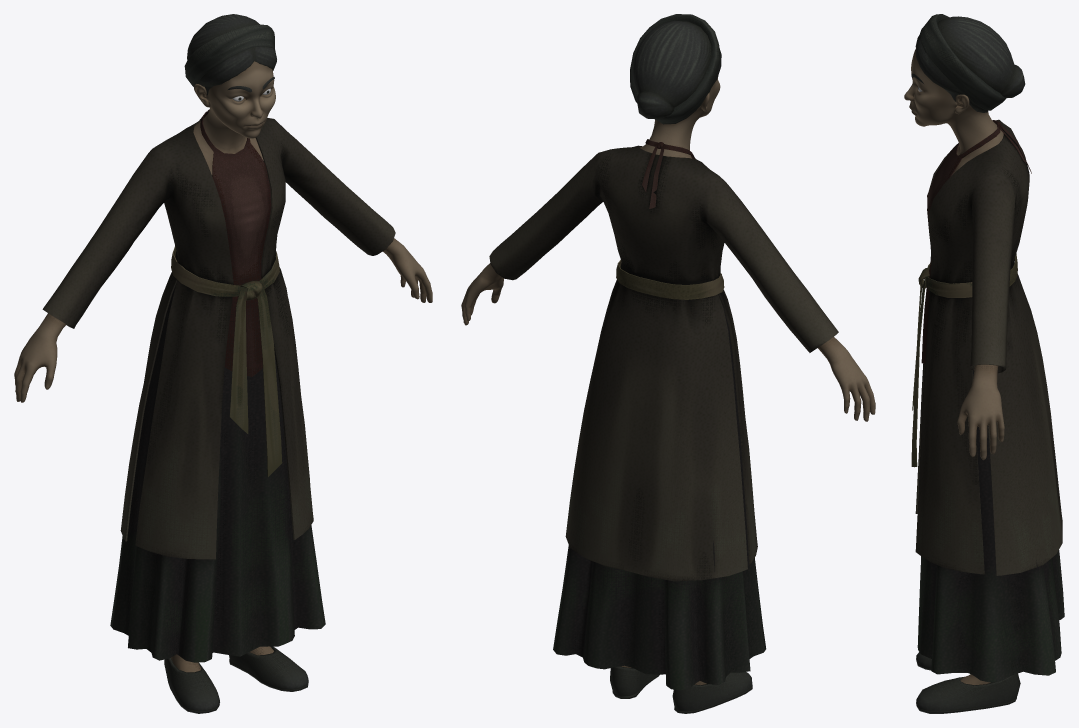
Rendered from Meke_blendshape.fbx.
3 views of the same model, side by side, from view 1: azimuth 30°, elevation 25°; view 2: azimuth 150°, elevation 25°; view 3: azimuth 270°, elevation 25° (orthographic).
Parts seen in each view (by area): view 1: MeKe_cloth, MeKe_body_base, MeKe_shose; view 2: MeKe_cloth, MeKe_body_base, MeKe_shose; view 3: MeKe_cloth, MeKe_body_base, MeKe_shose.
Part boxes in pixels (box(x1,y1,x2,y2)): MeKe_cloth: box(42, 24, 395, 662); MeKe_body_base: box(14, 14, 432, 672); MeKe_shose: box(164, 646, 308, 713); MeKe_cloth: box(489, 14, 838, 690); MeKe_body_base: box(461, 20, 875, 685); MeKe_shose: box(610, 666, 752, 713); MeKe_cloth: box(911, 14, 1064, 682); MeKe_body_base: box(904, 16, 1025, 685); MeKe_shose: box(916, 652, 1020, 713).
Bounding box in the file's own units: 104 × 161 × 35.23.
